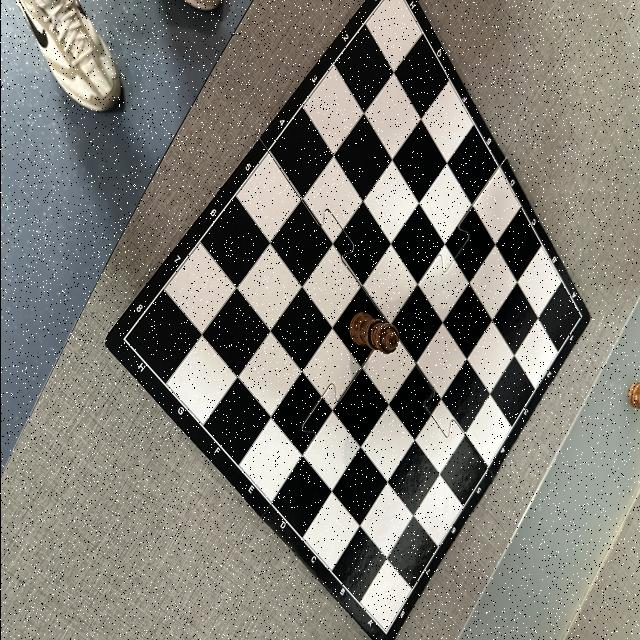Black-Queen: (348, 312, 398, 355)
